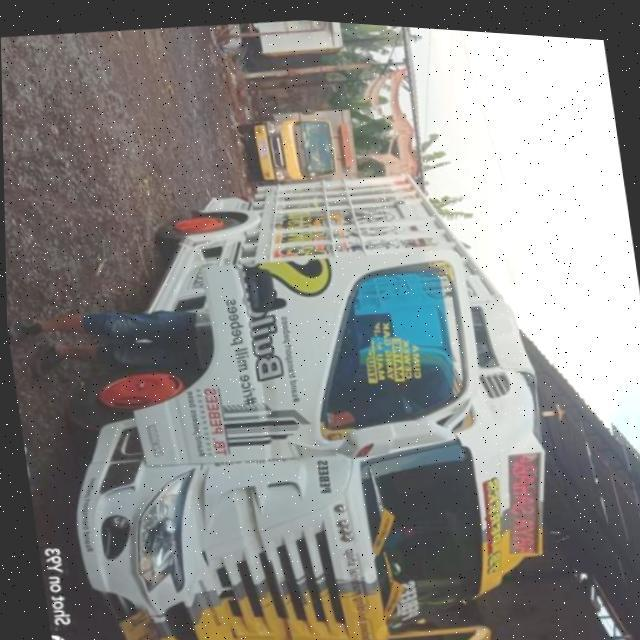truck: (22, 134, 576, 640), (231, 92, 363, 195), (205, 11, 359, 68)
